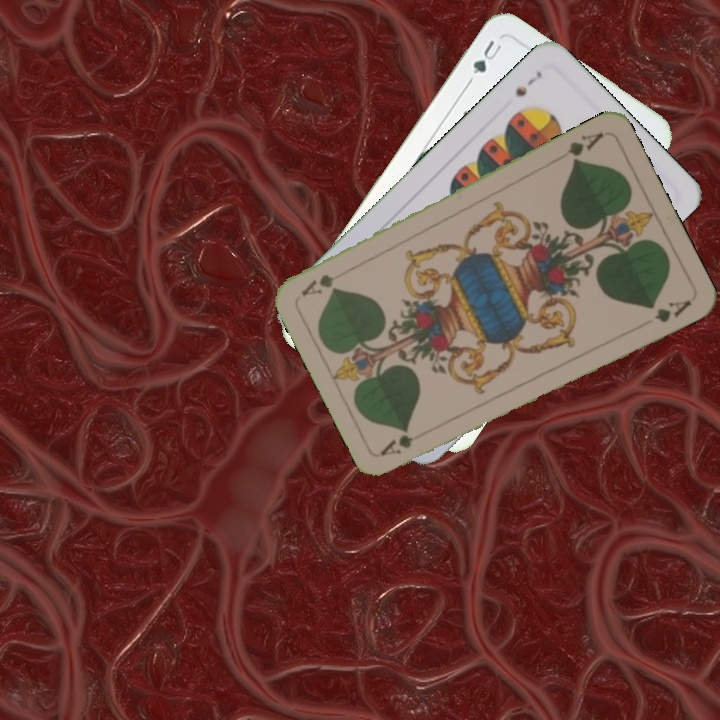GA: (377, 424, 433, 458), (563, 127, 606, 166)
GU: (468, 36, 505, 77)
S7: (511, 66, 545, 99)
